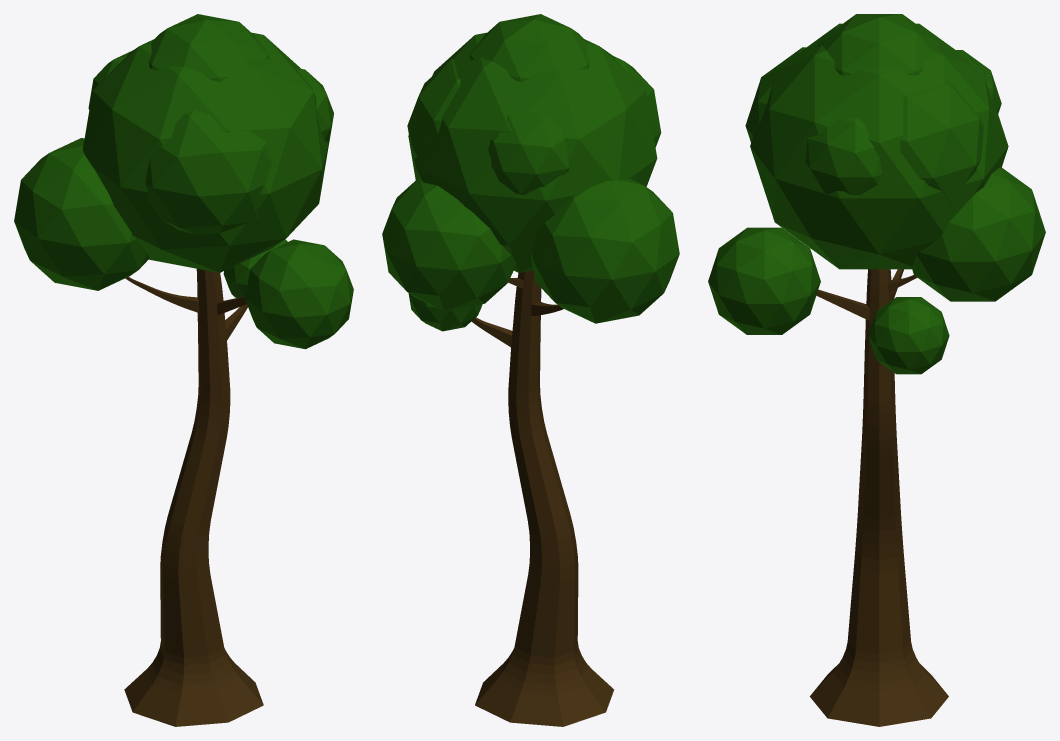
Rendered from Low Poly Tree 2.fbx.
3 views of the same model, side by side, from view 1: azimuth 30°, elevation 25°; view 2: azimuth 150°, elevation 25°; view 3: azimuth 270°, elevation 25° (orthographic).
Visible parts, largest first — view 1: Tree Full.001; view 2: Tree Full.001; view 3: Tree Full.001.
Part boxes in pixels (x1,y1,x2,y2): Tree Full.001: [14, 14, 353, 726]; Tree Full.001: [382, 14, 679, 726]; Tree Full.001: [708, 14, 1045, 726].
Bounding box in the file's own units: 103 × 251 × 112.
